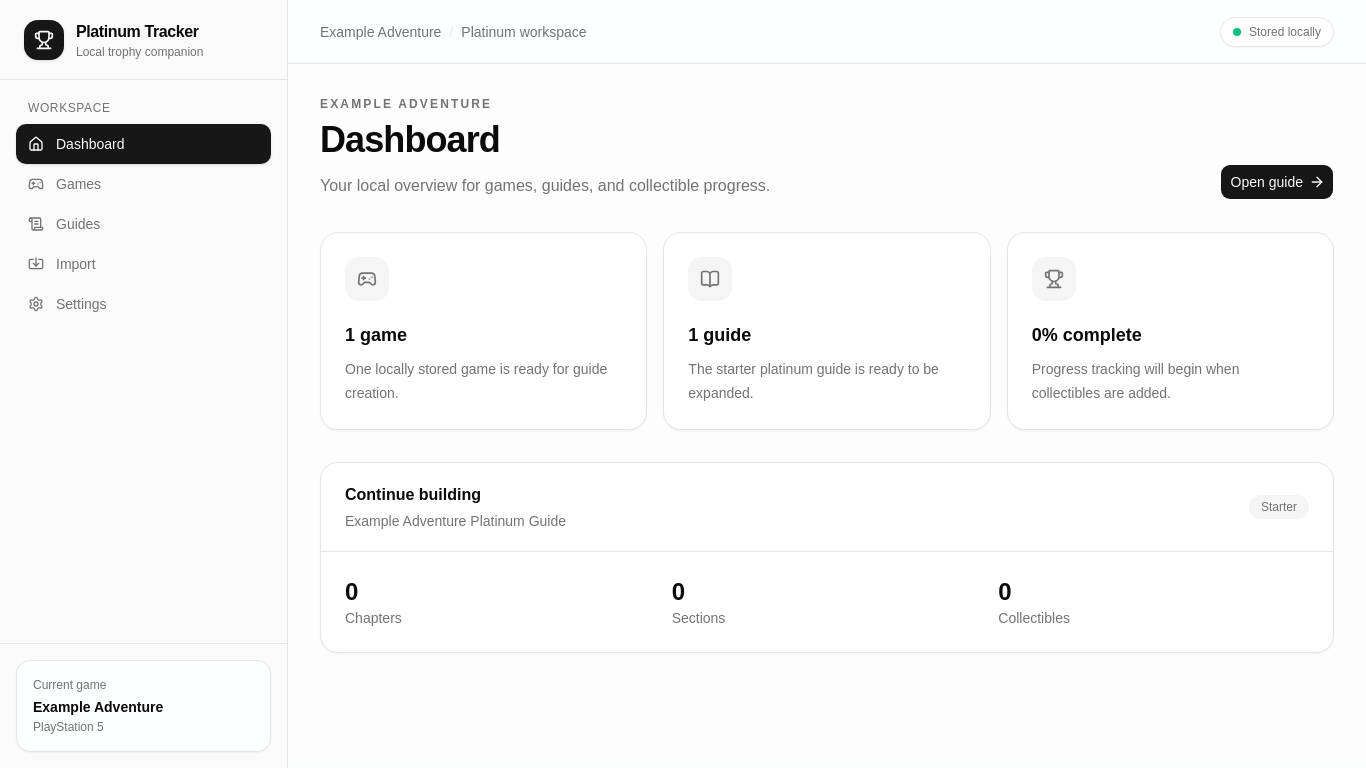
Test: App › navigates between shell pages
Click the link "Guides" at (64, 224), box [28,216,100,232]
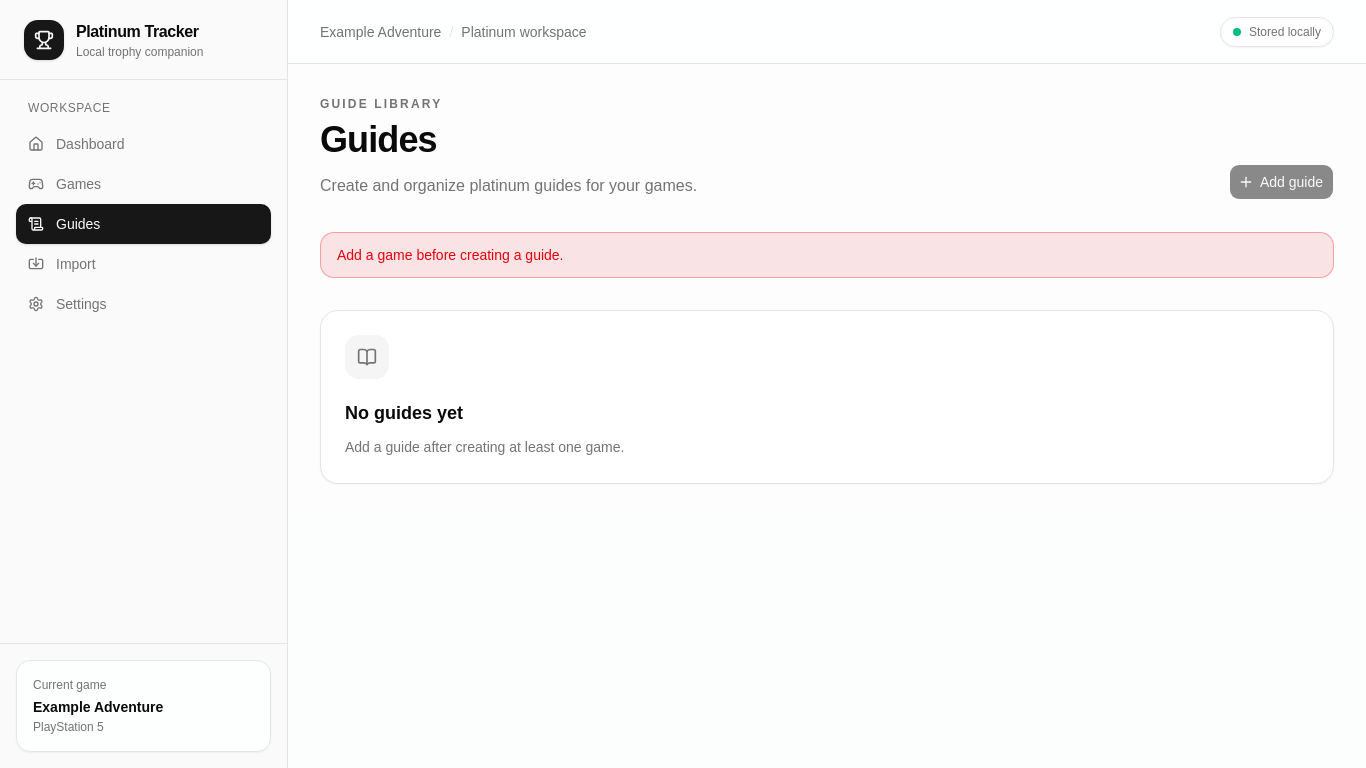
Check: the heading "Guides" is shown, box [320,119,437,160]
